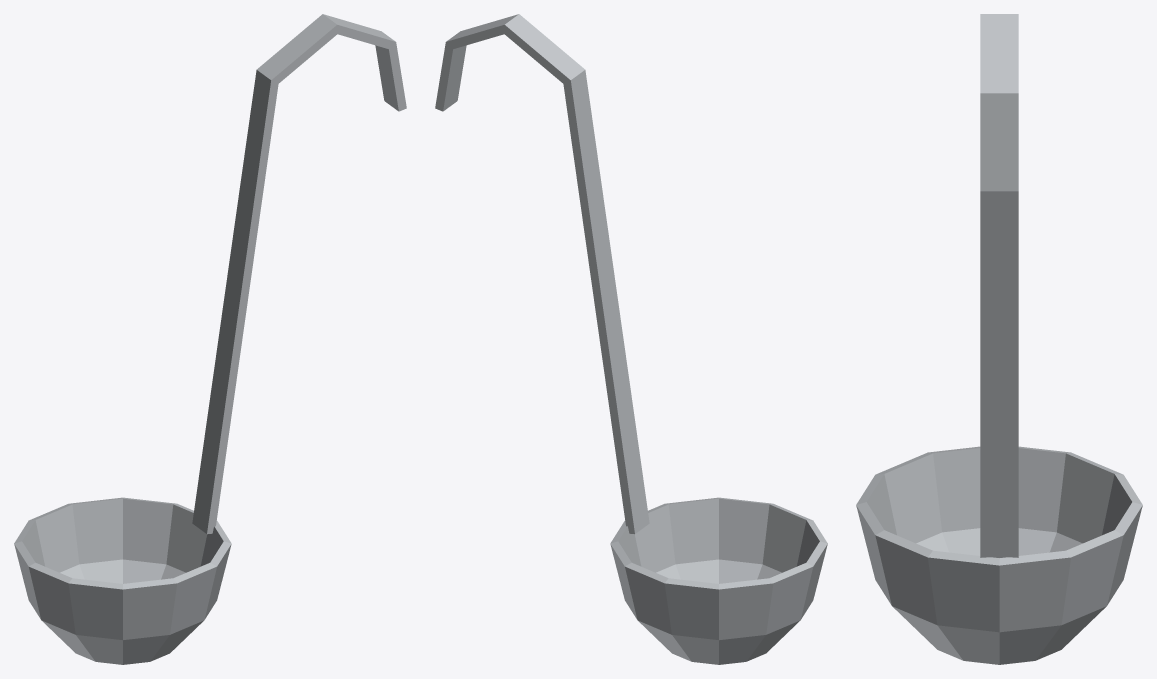
The model's file is SM_kitchenset_01.fbx.
3 renders of one model, left to right at view 1: azimuth 30°, elevation 25°; view 2: azimuth 150°, elevation 25°; view 3: azimuth 270°, elevation 25°, orthographic. The views are drawn at different scales.
Visible parts, largest first — view 1: Line043; view 2: Line043; view 3: Line043.
Boxes of the visible parts, x1,y1,x2,y2 form: Line043: [14, 14, 406, 664]; Line043: [435, 14, 827, 664]; Line043: [856, 14, 1142, 664].
Bounding box in the file's own units: 15.71 × 7.98 × 23.77.
